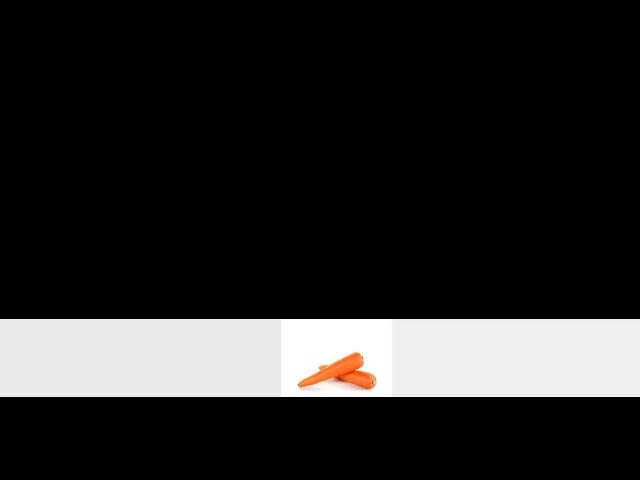carrot: (313, 362, 380, 390)
